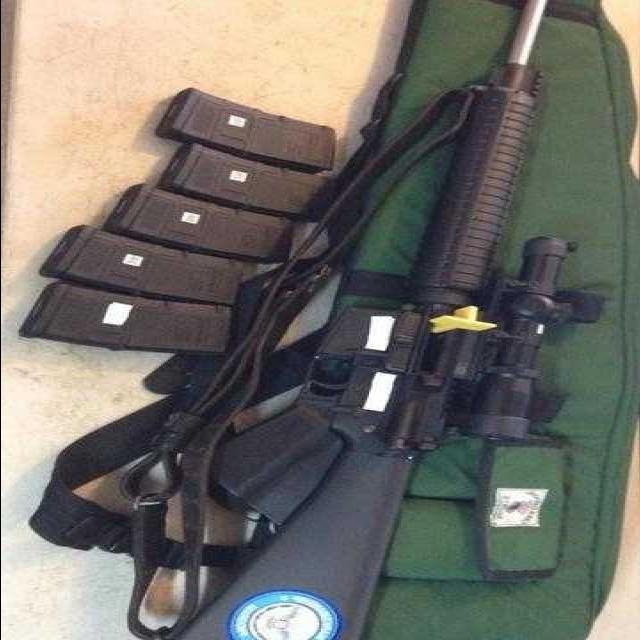heavyweapon: (141, 1, 640, 640)
